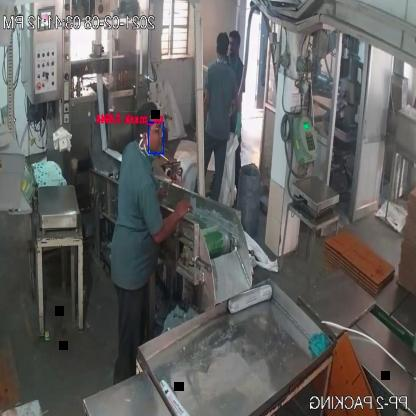no_glove: (153, 191, 201, 244)
